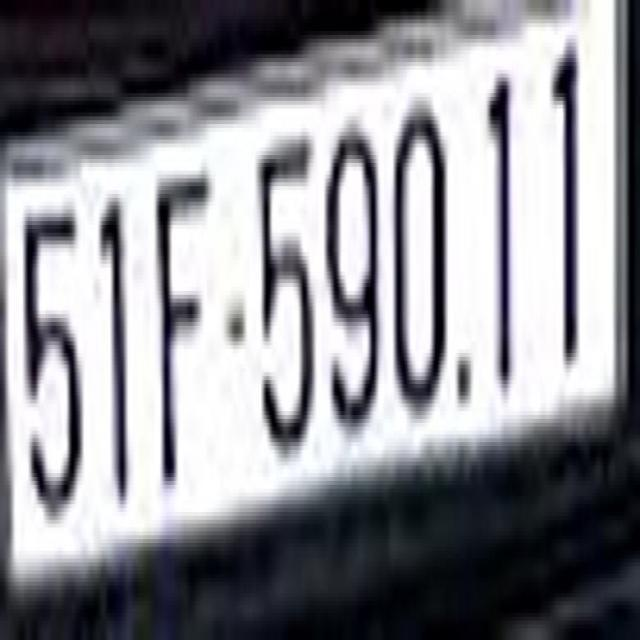0: (389, 85, 449, 423)
1: (542, 23, 590, 384), (480, 54, 520, 400), (94, 198, 134, 516)
5: (17, 194, 86, 547), (254, 128, 318, 454)
9: (322, 112, 382, 446)
F: (150, 159, 213, 477)
